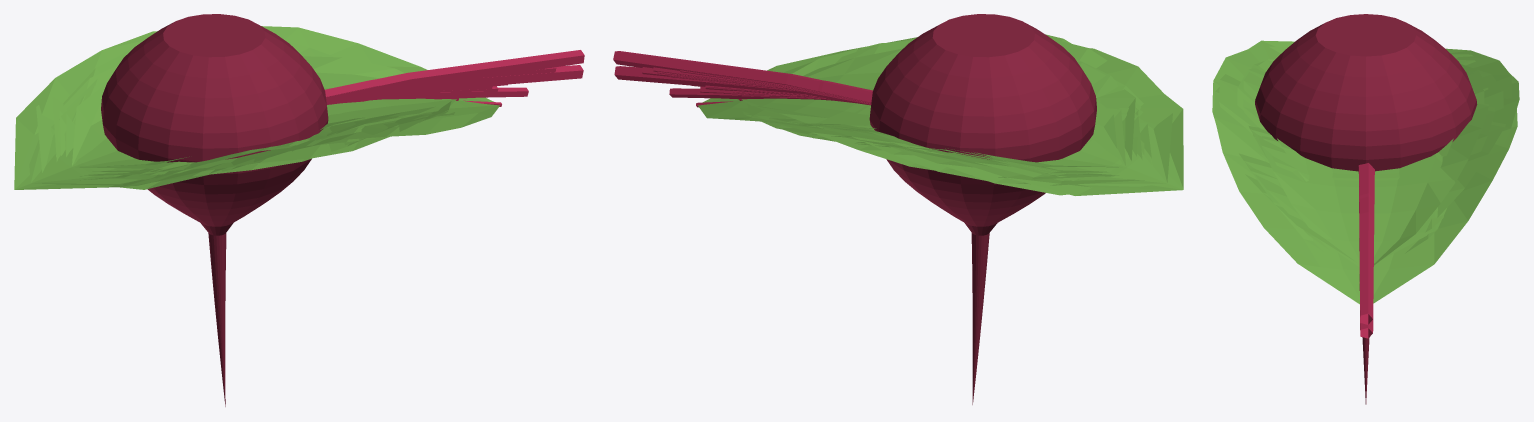
File: beetroot_harvest_v14.articulated.glb
The picture shows the model from 3 angles, left to right: view 1: azimuth 30°, elevation 25°; view 2: azimuth 150°, elevation 25°; view 3: azimuth 270°, elevation 25°; orthographic projection. The views are drawn at different scales.
Visible parts, largest first — view 1: root, leaf03_link2, leaf07_link2, leaf12_link2, leaf07_link0, leaf00_link2, leaf09_link2, leaf12_link0, leaf04_link2, leaf12_link1, leaf06_link2, leaf08_link2 (+2 smaller); view 2: root, leaf03_link2, leaf00_link2, leaf07_link2, leaf12_link2, leaf07_link0, leaf09_link2, leaf04_link2, leaf12_link0, leaf01_link2, leaf05_link2, leaf02_link0 (+4 smaller); view 3: root, leaf12_link2, leaf03_link2, leaf00_link2, leaf07_link2, leaf09_link2, leaf05_link2, leaf07_link0, leaf04_link2, leaf01_link2, leaf02_link0, leaf11_link2 (+3 smaller).
Boxes of the visible parts, x1,y1,x2,y2 form: root: (101, 14, 328, 406); leaf03_link2: (72, 56, 458, 168); leaf07_link2: (14, 40, 442, 189); leaf12_link2: (52, 26, 501, 184); leaf07_link0: (326, 50, 584, 104); leaf00_link2: (29, 31, 451, 185); leaf09_link2: (36, 42, 426, 189); leaf12_link0: (345, 65, 583, 102); leaf04_link2: (63, 48, 454, 171); leaf12_link1: (371, 87, 528, 100); leaf06_link2: (59, 66, 383, 175); leaf08_link2: (66, 71, 404, 171); root: (869, 14, 1096, 404); leaf03_link2: (739, 48, 1125, 167); leaf00_link2: (747, 43, 1172, 195); leaf07_link2: (755, 40, 1183, 195); leaf12_link2: (696, 34, 1118, 179); leaf07_link0: (613, 51, 871, 102); leaf09_link2: (769, 39, 1152, 185); leaf04_link2: (742, 38, 1135, 177); leaf12_link0: (614, 66, 871, 105); leaf01_link2: (799, 58, 1144, 154); leaf05_link2: (811, 62, 1143, 155); leaf02_link0: (682, 70, 872, 102); root: (1255, 14, 1477, 404); leaf12_link2: (1214, 60, 1517, 304); leaf03_link2: (1258, 127, 1455, 266); leaf00_link2: (1212, 46, 1519, 262); leaf07_link2: (1239, 40, 1511, 232); leaf09_link2: (1219, 54, 1505, 217); leaf05_link2: (1243, 61, 1488, 180); leaf07_link0: (1358, 165, 1374, 324); leaf04_link2: (1246, 59, 1503, 253); leaf01_link2: (1237, 68, 1494, 249); leaf02_link0: (1359, 163, 1374, 201); leaf11_link2: (1277, 138, 1309, 181).
Bounding box in the file's own units: 0.2036 × 0.1285 × 0.0974.
1 material, 1 textured.
